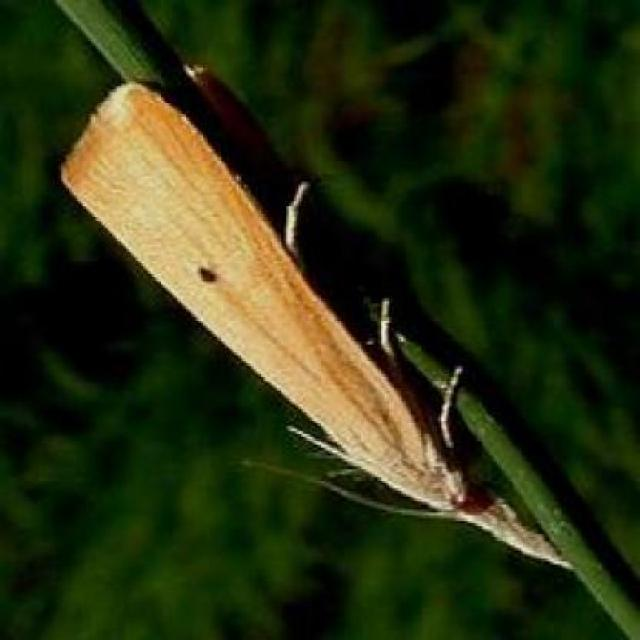stem-borer: (48, 63, 580, 582)
